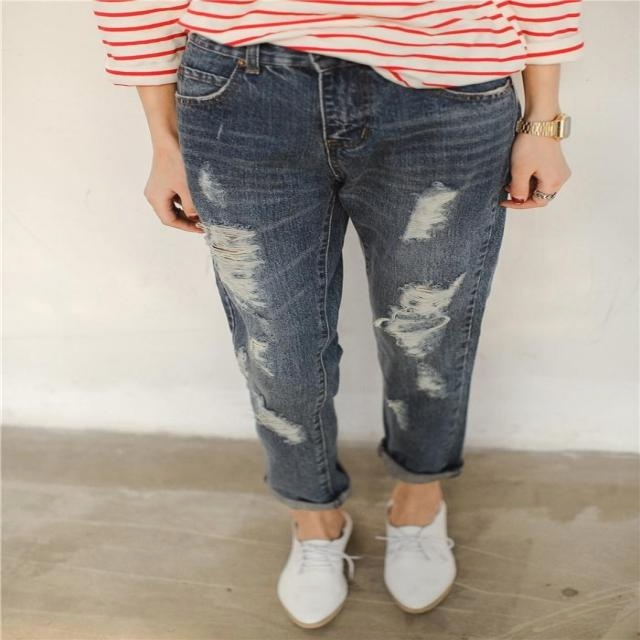ripped_pants: (170, 29, 527, 514)
